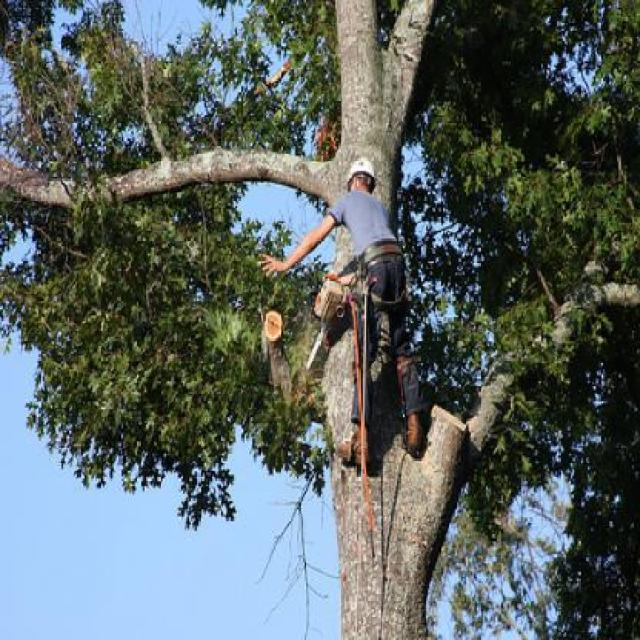Chainsaw: (306, 268, 352, 369)
